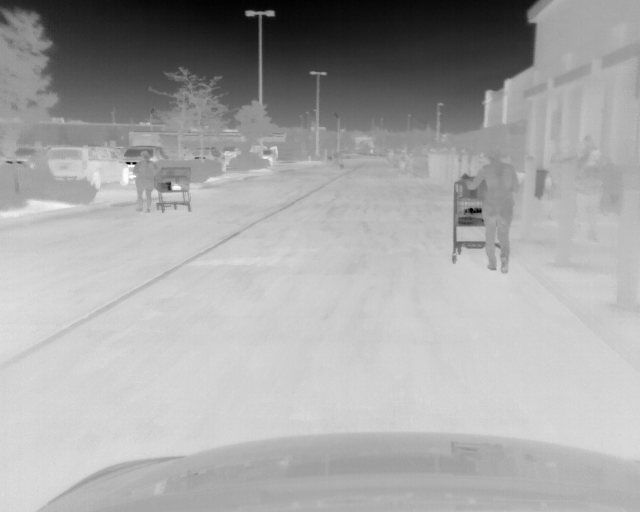car: (47, 146, 131, 190), (123, 145, 168, 184)
people: (468, 147, 520, 274), (574, 145, 606, 243), (131, 150, 157, 214)
